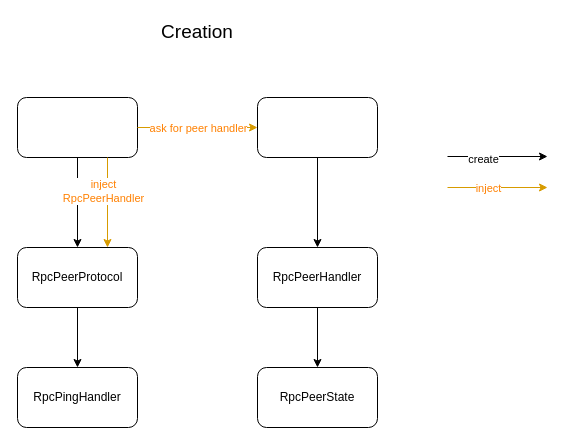
This 573x445 diagram has some shape labels left out. The centre of each missing label's shape, as x and y in pixels:
"GossipRpc Shadowgraph Synchronizer" belongs at point (317, 127).
"RpcProtocol" belongs at point (77, 127).
